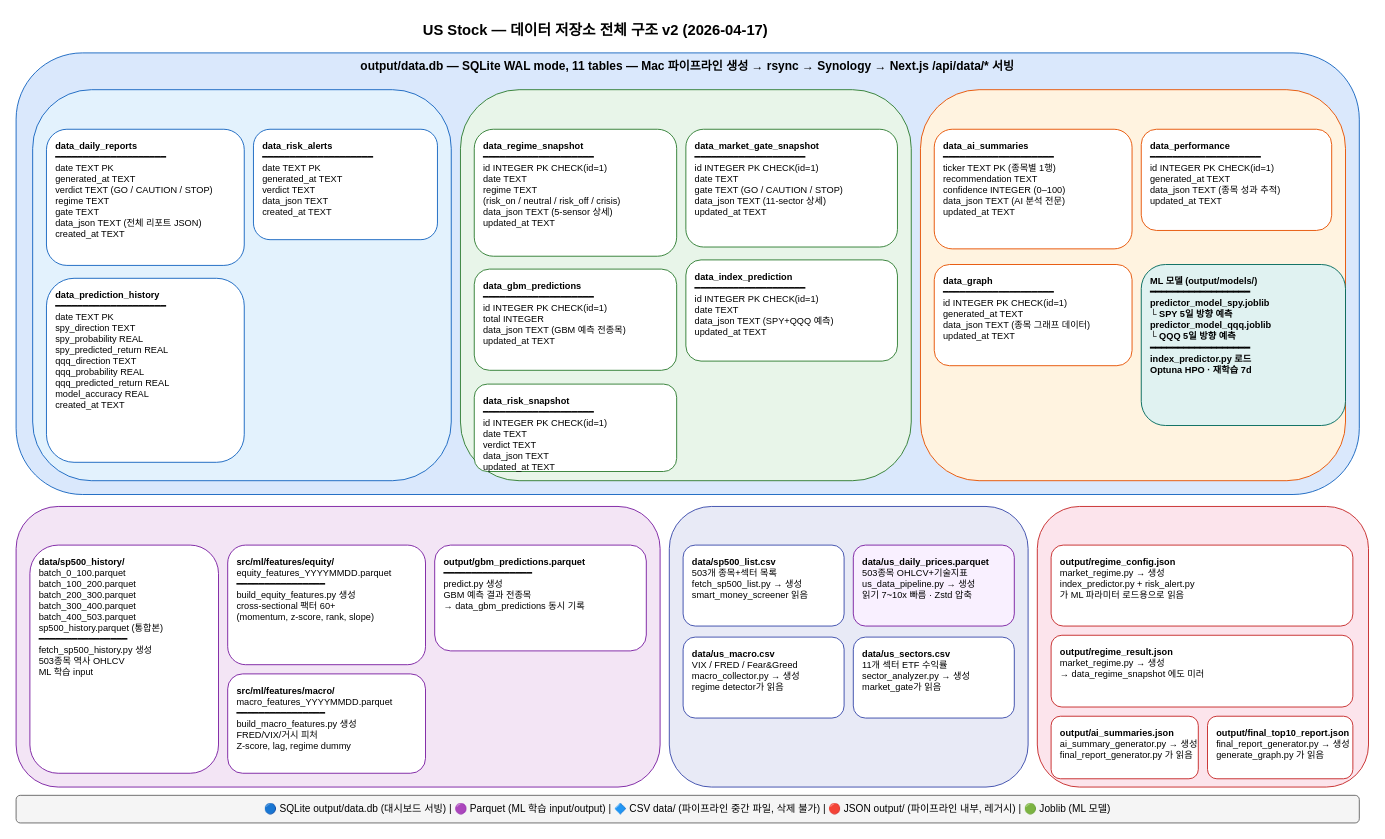
Image size: 1385x839. Some labels were removed from this diagram. The shapes that lost their labels are listed below. From the top down, each one's box as (x1, y1, x2, y2) in pixels, then its label:
(32, 89, 451, 481): ⏱ Time Series (date PK — 날짜별 누적)
(460, 89, 911, 481): 📌 Singleton Snapshots (id=1 단일 행 — 항상 최신값 덮어쓰기)
(920, 89, 1346, 481): 📊 분석 결과 Singletons
(15, 506, 660, 787): ML 파이프라인 — Parquet (pandas/PyArrow)
(668, 506, 1028, 787): 파이프라인 중간 CSV (data/ — 파이프라인 내부 전용, 대시보드 미사용) us_daily_prices: Parquet로 전환됨
(1036, 506, 1368, 787): JSON (파이프라인 내부 파일 — 대시보드 미사용) 날짜별 누적 파일 제거됨 (P3)
